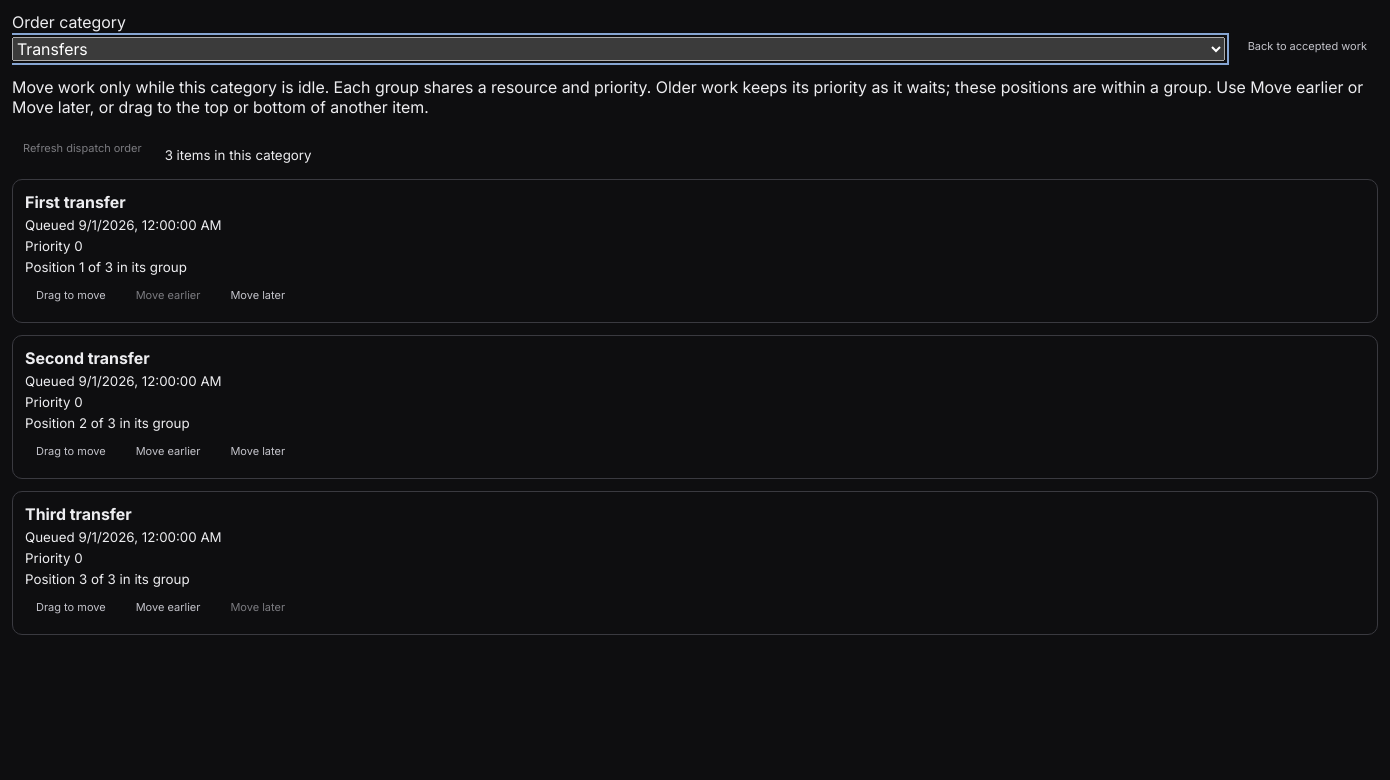
Test: submits a move during a background read and handles the stale result
Click the button "Move earlier" below "Third transfer".
click(168, 607)  # box x1=125 y1=592 x2=211 y2=622
Wait 50 ms
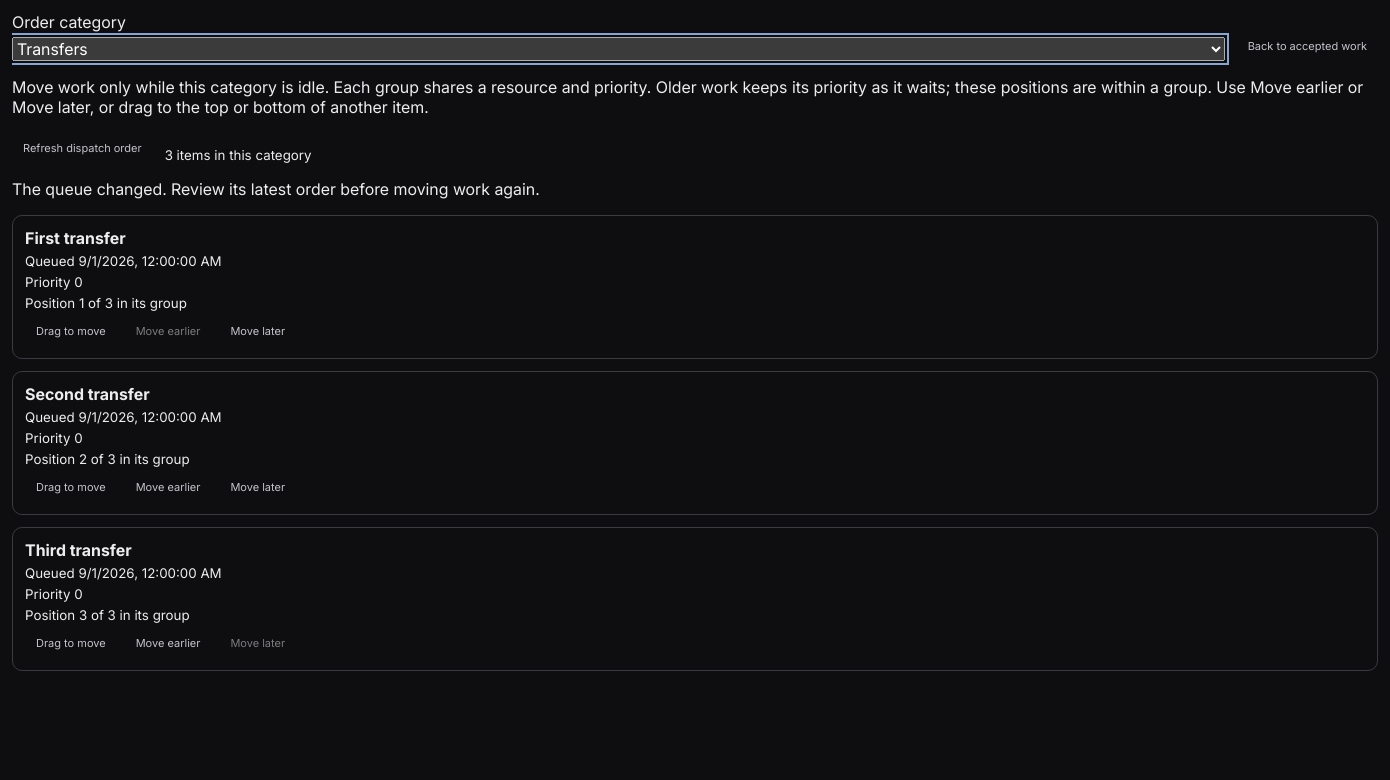
Now the text "The queue changed. Review its latest order before moving work again." is shown, box x1=12 y1=179 x2=540 y2=199
